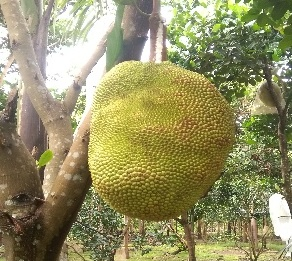Mit: (87, 61, 235, 223)
